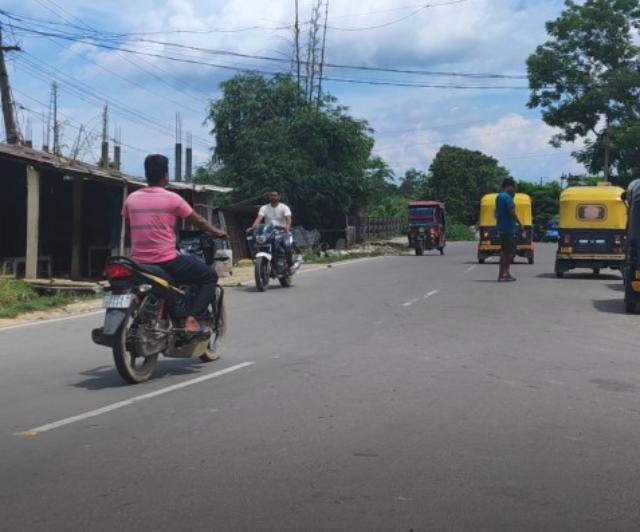licensePlate: (97, 291, 133, 312)
motorcycle: (89, 151, 224, 387), (249, 179, 294, 294)
withoutHelmet: (142, 157, 170, 191), (264, 188, 285, 206)
